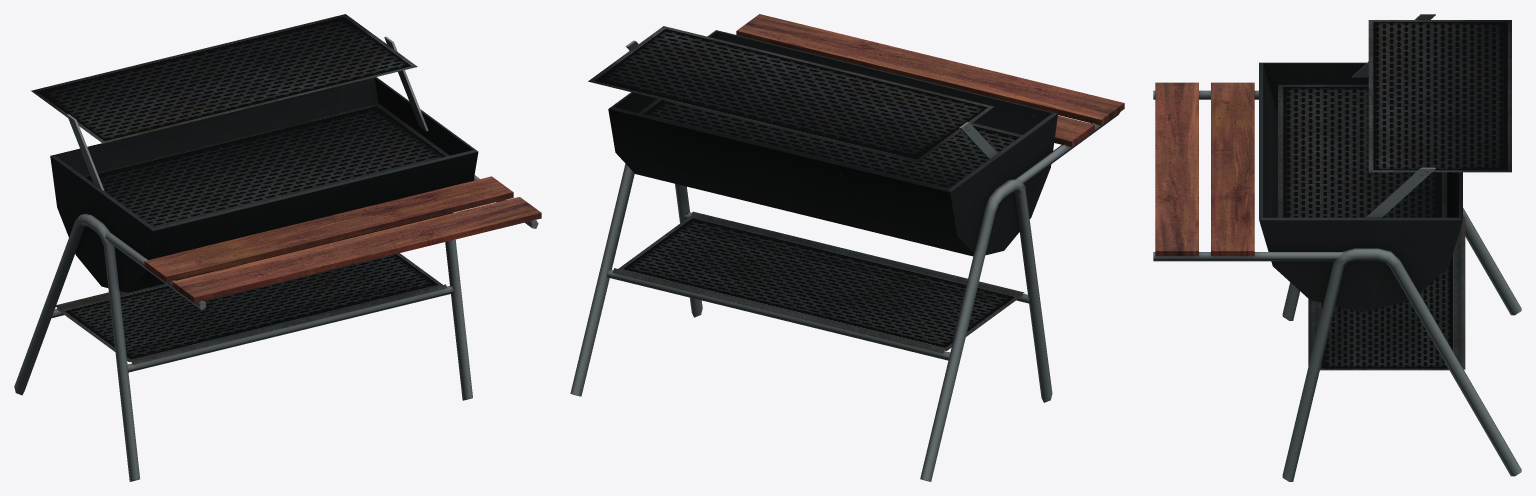
The model's file is Sun_0851_BBQ_Grill_1.fbx.
The picture shows the model from 3 angles, left to right: view 1: azimuth 30°, elevation 25°; view 2: azimuth 150°, elevation 25°; view 3: azimuth 270°, elevation 25°; orthographic projection. The views are drawn at different scales.
Visible parts, largest first — view 1: Sun_0851_BBQ_Grill; view 2: Sun_0851_BBQ_Grill; view 3: Sun_0851_BBQ_Grill.
Boxes of the visible parts, x1,y1,x2,y2 form: Sun_0851_BBQ_Grill: (14, 14, 541, 481); Sun_0851_BBQ_Grill: (570, 14, 1124, 481); Sun_0851_BBQ_Grill: (1153, 14, 1521, 481).
Bounding box in the file's own units: 82.96 × 71.31 × 76.74.
